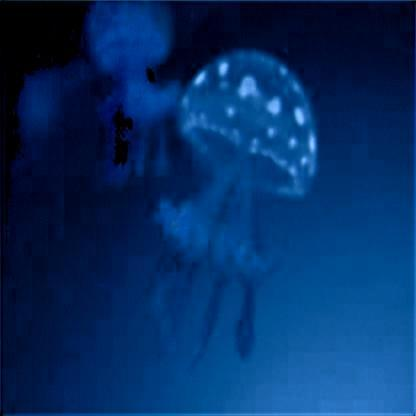LightHouse: (151, 53, 315, 367), (92, 5, 175, 183)
